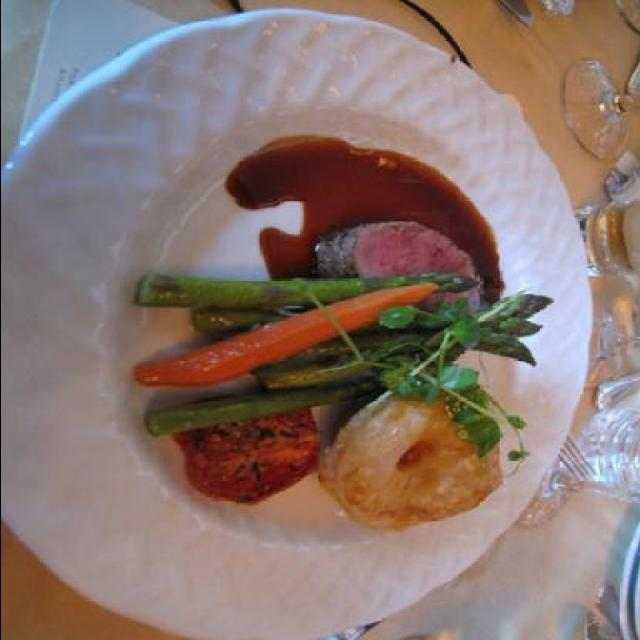Steak: (307, 206, 499, 349)
